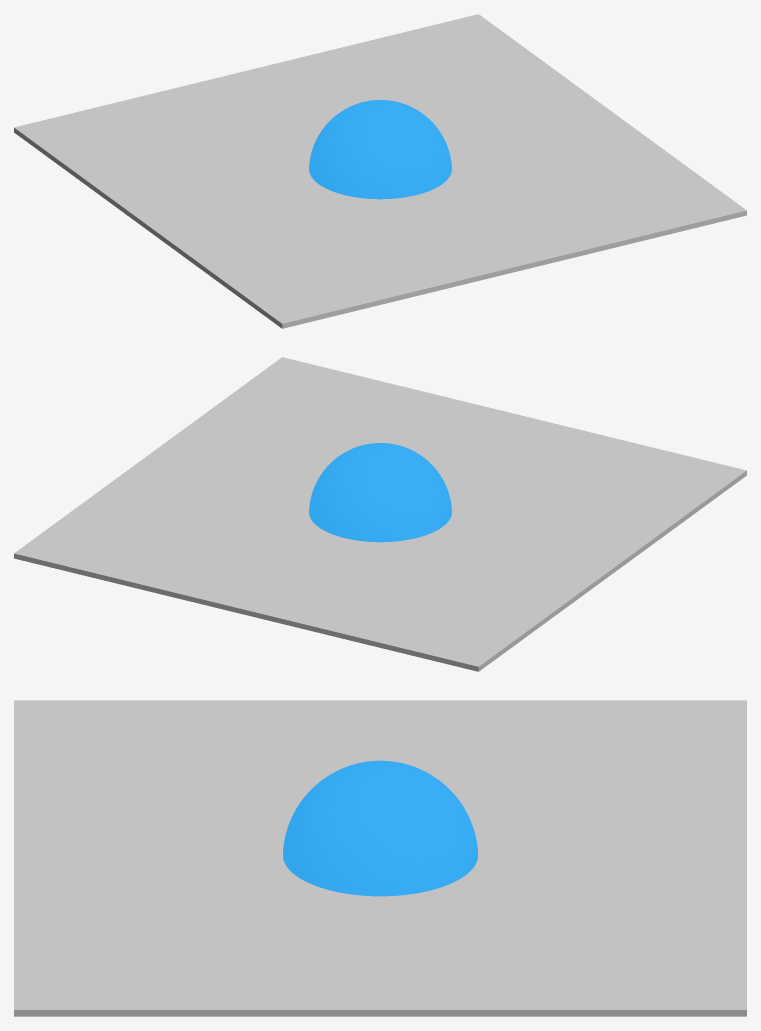
The model's file is black_hole.gltf.
3 views of the same model, one above another, from view 1: azimuth 30°, elevation 25°; view 2: azimuth 150°, elevation 25°; view 3: azimuth 270°, elevation 25° (orthographic). The views are drawn at different scales.
Parts seen in each view (by area): view 1: Black Hole LIght part, Black Hole; view 2: Black Hole LIght part, Black Hole; view 3: Black Hole LIght part, Black Hole.
Part boxes in pixels (x1=…): Black Hole LIght part: x1=14, y1=14, x2=746, y2=328; Black Hole: x1=309, y1=100, x2=451, y2=199; Black Hole LIght part: x1=14, y1=357, x2=746, y2=671; Black Hole: x1=309, y1=443, x2=451, y2=542; Black Hole LIght part: x1=14, y1=700, x2=746, y2=1016; Black Hole: x1=283, y1=760, x2=477, y2=896.
Bounding box in the file's own units: 7.49 × 2 × 7.49.
